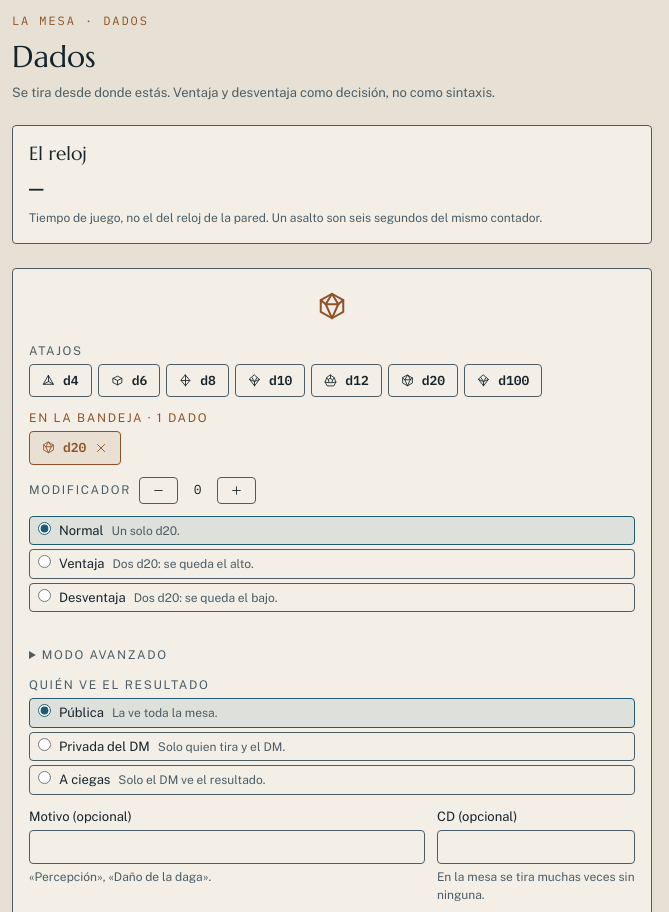
PanelDeDados — tirar › Task 10 — un dado de la bandeja compone la expresión, agrupando por caras
Step 1. Click the heading "Modo avanzado" → point(105, 655), box [42,648,168,662]
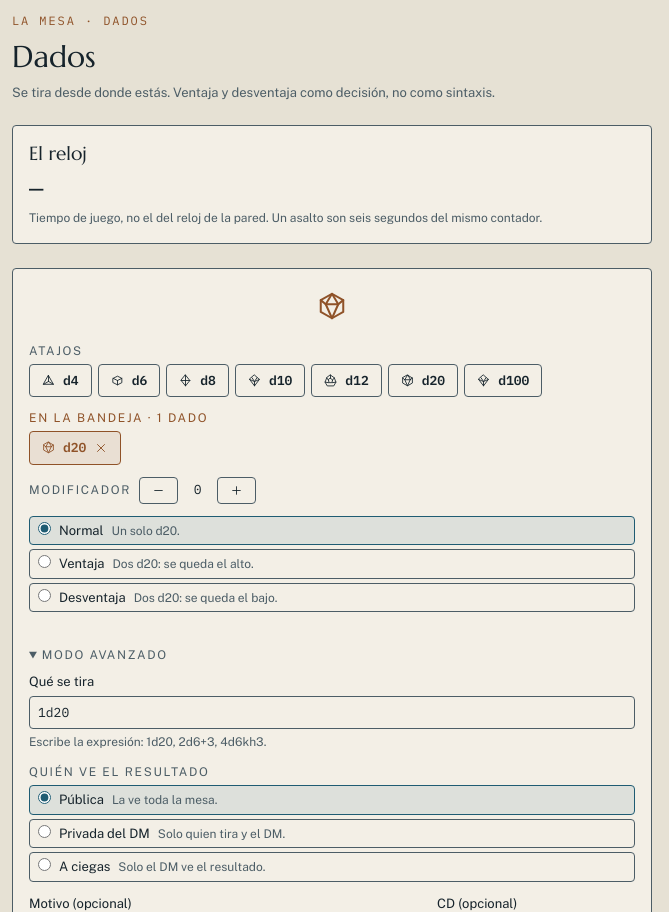
Check: the field labelled "Qué se tira" holds "1d20", box [29,696,635,729]
Step 2. Click the button named "Añadir un d6" → point(129, 380), box [98,364,160,397]
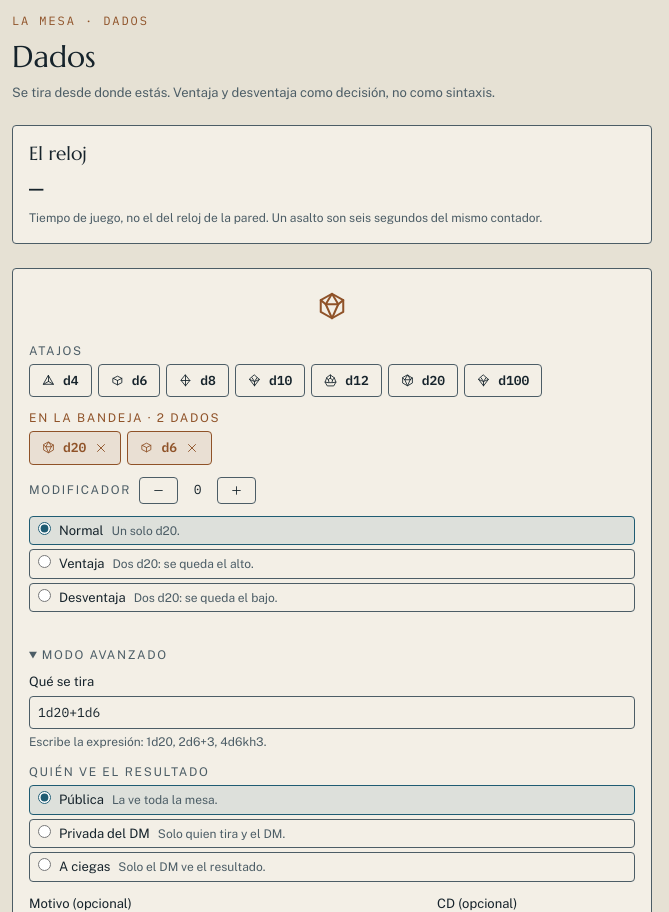
Check: the field labelled "Qué se tira" holds "1d20+1d6", box [29,696,635,729]
Note: Un segundo d20 se agrupa con el primero, no se suma como término aparte.
Step 3. Click the button named "Añadir un d20" → point(423, 380), box [388,364,458,397]
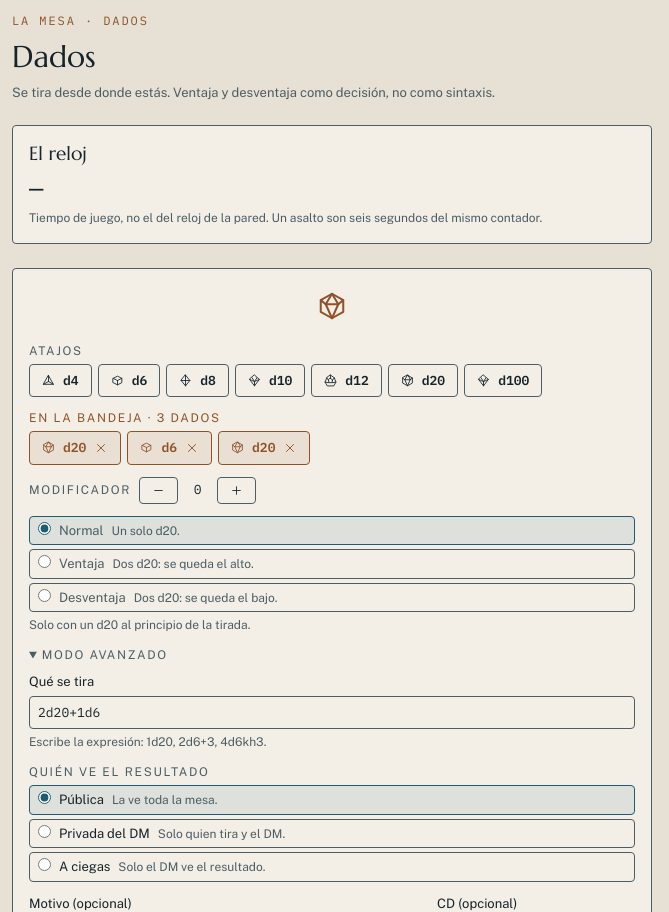
Check: the field labelled "Qué se tira" holds "2d20+1d6", box [29,696,635,729]
